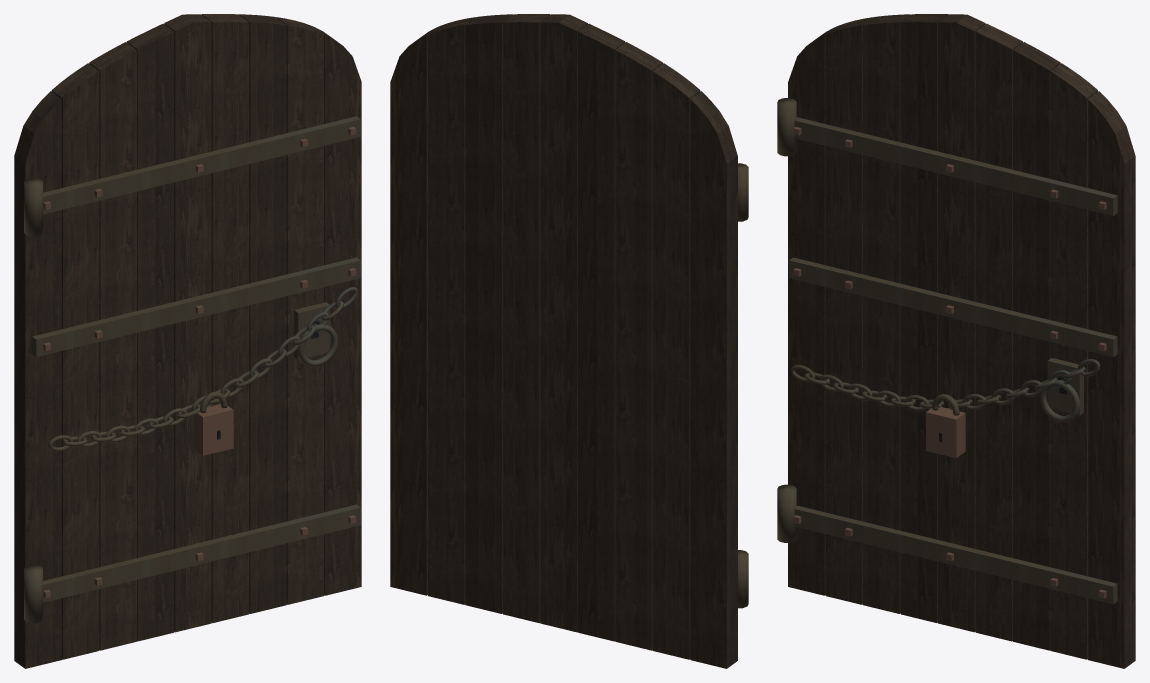
The model's file is door.glb.
3 views of the same model, side by side, from view 1: azimuth 30°, elevation 25°; view 2: azimuth 150°, elevation 25°; view 3: azimuth 330°, elevation 25° (orthographic).
Parts seen in each view (by area): view 1: Cinematic_Door | vertical aged oak plank 00, Cinematic_Door | vertical aged oak plank 03, Cinematic_Door | vertical aged oak plank 02, Cinematic_Door | vertical aged oak plank 04, Cinematic_Door | vertical aged oak plank 06, Cinematic_Door | vertical aged oak plank 05, Cinematic_Door | vertical aged oak plank 01, Cinematic_Door | vertical aged oak plank 07, Cinematic_Door | vertical aged oak plank 08, Cinematic_Door | blackened iron strap.001, Cinematic_Door | blackened iron strap, Cinematic_Door | blackened iron strap.002 (+5 smaller); view 2: Cinematic_Door | vertical aged oak plank 00, Cinematic_Door | vertical aged oak plank 03, Cinematic_Door | vertical aged oak plank 04, Cinematic_Door | vertical aged oak plank 05, Cinematic_Door | vertical aged oak plank 01, Cinematic_Door | vertical aged oak plank 02, Cinematic_Door | vertical aged oak plank 06, Cinematic_Door | vertical aged oak plank 07, Cinematic_Door | vertical aged oak plank 08, Cinematic_Door | hinge barrel, Cinematic_Door | hinge barrel.001; view 3: Cinematic_Door | vertical aged oak plank 08, Cinematic_Door | vertical aged oak plank 05, Cinematic_Door | vertical aged oak plank 06, Cinematic_Door | vertical aged oak plank 02, Cinematic_Door | vertical aged oak plank 03, Cinematic_Door | vertical aged oak plank 04, Cinematic_Door | vertical aged oak plank 01, Cinematic_Door | vertical aged oak plank 07, Cinematic_Door | vertical aged oak plank 00, Cinematic_Door | blackened iron strap.001, Cinematic_Door | blackened iron strap, Cinematic_Door | blackened iron strap.002 (+5 smaller).
Part boxes in pixels (x1,y1,x2,y2): Cinematic_Door | vertical aged oak plank 00: (14,91,61,668); Cinematic_Door | vertical aged oak plank 03: (126,23,174,641); Cinematic_Door | vertical aged oak plank 02: (89,42,136,650); Cinematic_Door | vertical aged oak plank 04: (164,14,211,632); Cinematic_Door | vertical aged oak plank 06: (239,14,286,613); Cinematic_Door | vertical aged oak plank 05: (201,14,249,622); Cinematic_Door | vertical aged oak plank 01: (51,63,99,659); Cinematic_Door | vertical aged oak plank 07: (276,17,324,604); Cinematic_Door | vertical aged oak plank 08: (314,27,361,595); Cinematic_Door | blackened iron strap.001: (32,257,360,357); Cinematic_Door | blackened iron strap: (43,504,360,602); Cinematic_Door | blackened iron strap.002: (43,116,360,214); Cinematic_Door | vertical aged oak plank 00: (690,91,737,668); Cinematic_Door | vertical aged oak plank 03: (577,23,625,641); Cinematic_Door | vertical aged oak plank 04: (540,14,587,632); Cinematic_Door | vertical aged oak plank 05: (503,14,550,623); Cinematic_Door | vertical aged oak plank 01: (652,63,700,659); Cinematic_Door | vertical aged oak plank 02: (615,42,662,650); Cinematic_Door | vertical aged oak plank 06: (465,14,512,613); Cinematic_Door | vertical aged oak plank 07: (428,17,475,604); Cinematic_Door | vertical aged oak plank 08: (390,27,437,595); Cinematic_Door | hinge barrel: (738,550,748,608); Cinematic_Door | hinge barrel.001: (738,163,748,221); Cinematic_Door | vertical aged oak plank 08: (1088,91,1135,668); Cinematic_Door | vertical aged oak plank 05: (975,23,1022,641); Cinematic_Door | vertical aged oak plank 06: (1013,42,1060,650); Cinematic_Door | vertical aged oak plank 02: (863,14,910,613); Cinematic_Door | vertical aged oak plank 03: (900,14,948,622); Cinematic_Door | vertical aged oak plank 04: (938,14,985,632); Cinematic_Door | vertical aged oak plank 01: (825,17,873,604); Cinematic_Door | vertical aged oak plank 07: (1050,63,1097,659); Cinematic_Door | vertical aged oak plank 00: (788,27,835,595); Cinematic_Door | blackened iron strap.001: (789,257,1117,357); Cinematic_Door | blackened iron strap: (794,505,1117,604); Cinematic_Door | blackened iron strap.002: (794,117,1117,215).
Size of the model in its own units: 2.12 by 3.6 by 0.3435.
Materials: 5 (3 with a texture image).
